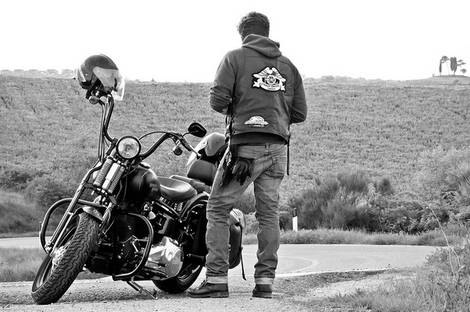person: (195, 22, 305, 285)
